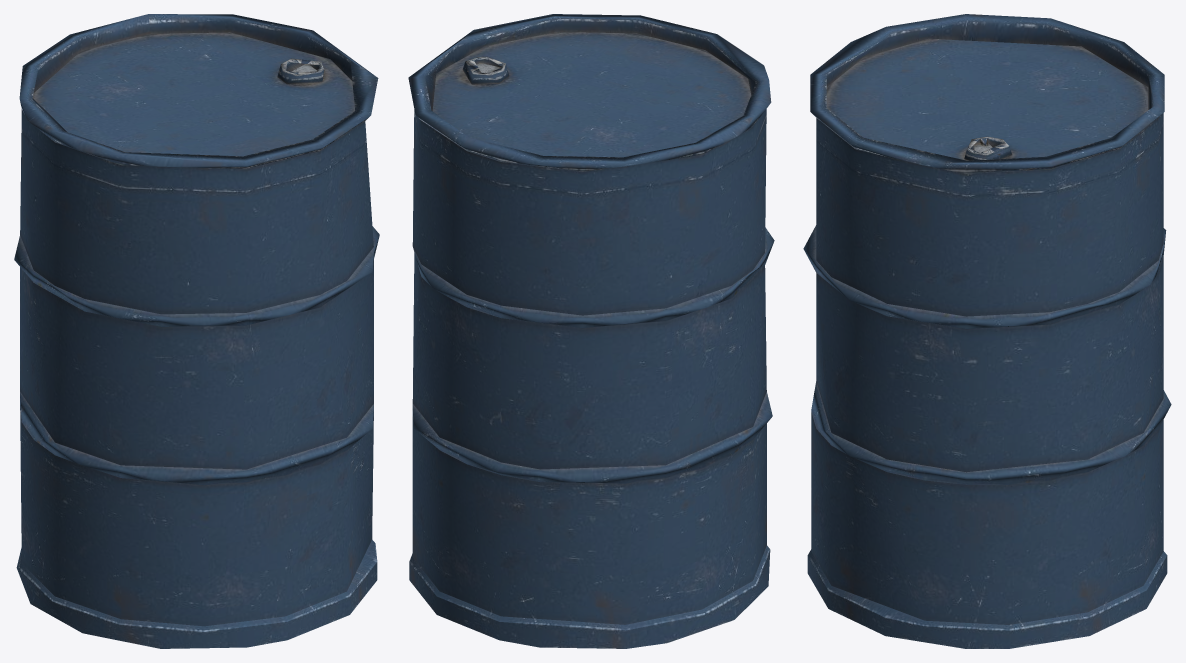
Rendered from fuel_drum.glb.
3 renders of one model, left to right at view 1: azimuth 30°, elevation 25°; view 2: azimuth 150°, elevation 25°; view 3: azimuth 270°, elevation 25°, orthographic.
Visible parts, largest first — view 1: barrel_03; view 2: barrel_03; view 3: barrel_03.
Part boxes in pixels (<box>): barrel_03: <box>14,14,379,648</box>; barrel_03: <box>408,14,774,648</box>; barrel_03: <box>803,14,1171,648</box>.
Bounding box in the file's own units: 0.6312 × 0.9305 × 0.6386.
Materials: 1 (1 with a texture image).
